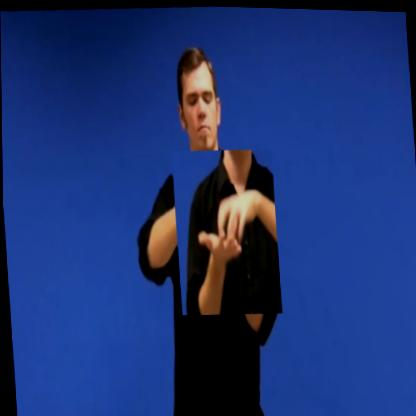Expensive: (170, 144, 281, 316)
